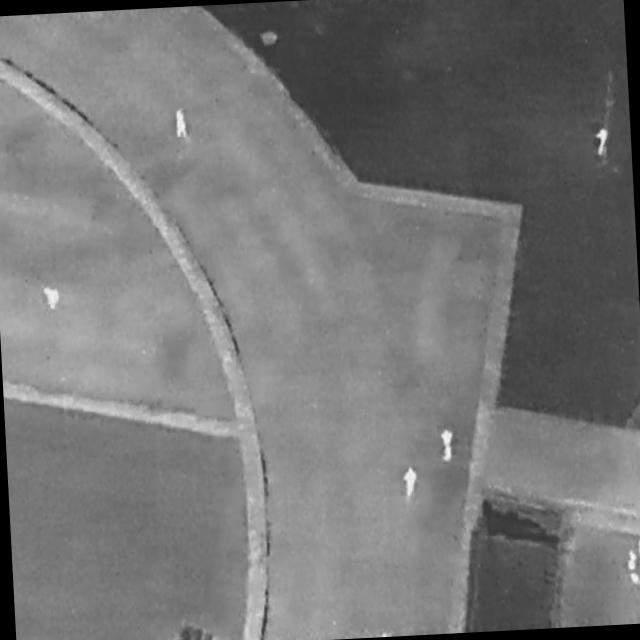person: (440, 427, 457, 463), (404, 466, 421, 498), (594, 130, 610, 161), (44, 285, 61, 313), (175, 110, 189, 140)
